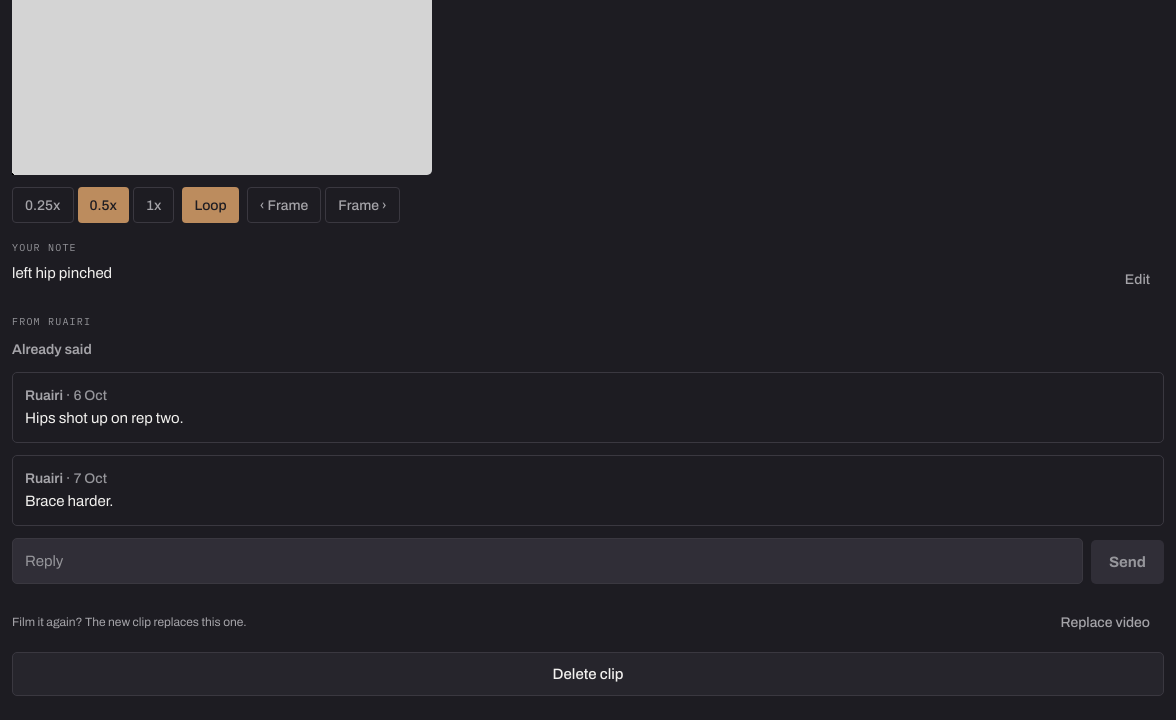
Test case: replying › answers the coach's latest thread, and shows the reply at once
(page scrolled)
Type "Will do, felt it too" into the text box named "Reply about Squat" at (547, 561), box x1=12 y1=538 x2=1083 y2=584
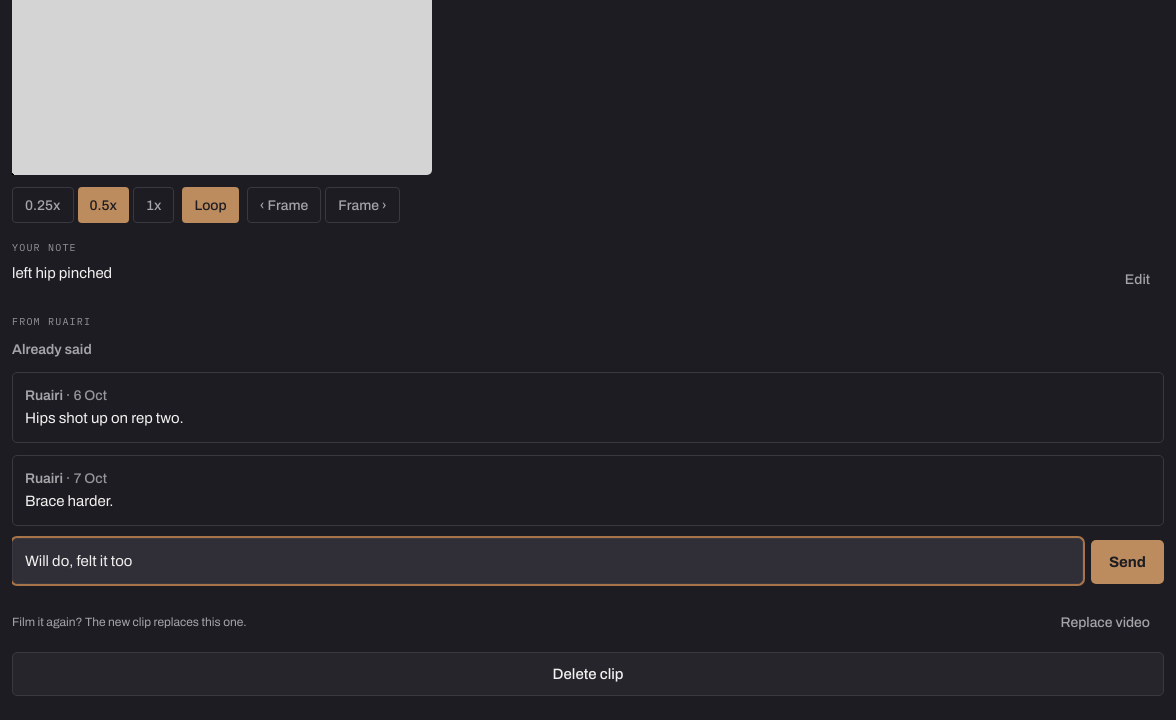
Click the button "Send" at (1127, 562), box x1=1091 y1=540 x2=1164 y2=584
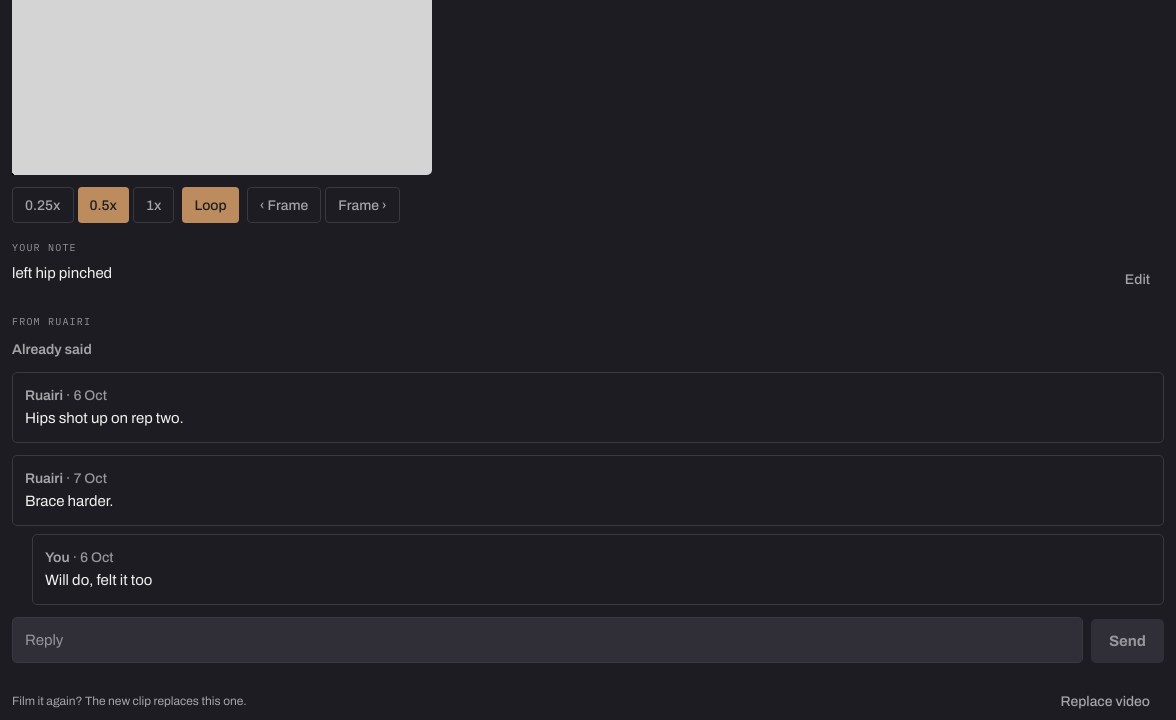
Expected: the text "Will do, felt it too" is shown, x1=45 y1=572 x2=152 y2=588
Expected: the text box named "Reply about Squat" is empty, x1=12 y1=617 x2=1083 y2=663
